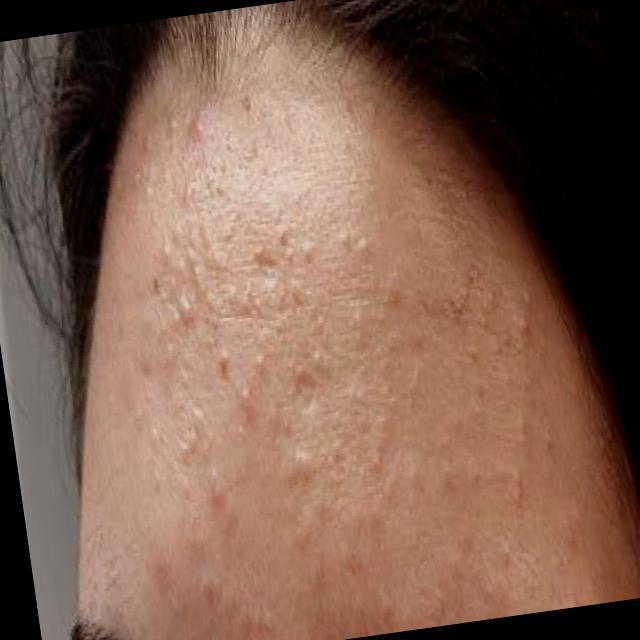fungal: (70, 51, 595, 640)
